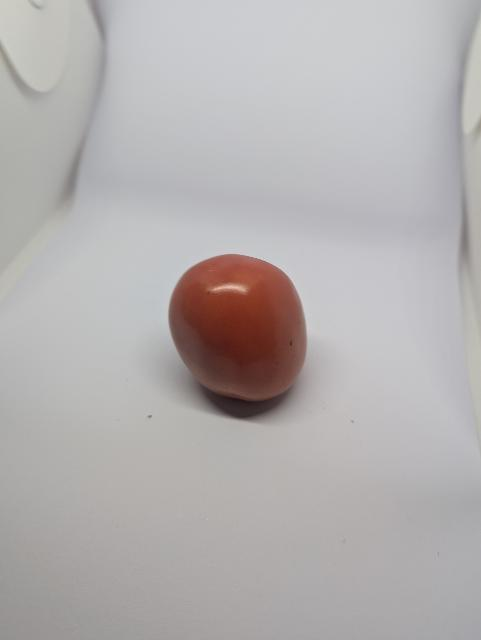red: (142, 244, 369, 442)
